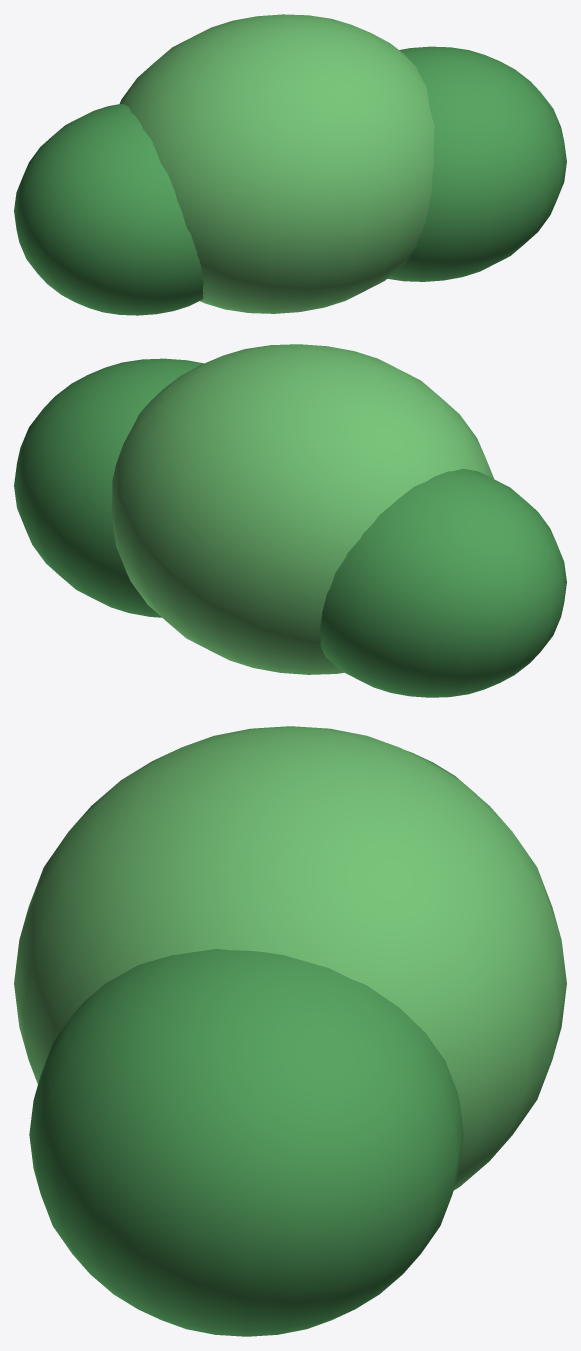
Rendered from stage-bush.glb.
The picture shows the model from 3 angles, top to bottom: view 1: azimuth 30°, elevation 25°; view 2: azimuth 150°, elevation 25°; view 3: azimuth 270°, elevation 25°; orthographic projection. The views are drawn at different scales.
Parts seen in each view (by area): view 1: B1, B3, B2; view 2: B1, B3, B2; view 3: B2, B1.
Boxes of the visible parts, x1,y1,x2,y2 form: B1: (119, 14, 434, 313); B3: (14, 104, 203, 315); B2: (387, 46, 566, 281); B1: (111, 344, 493, 674); B3: (319, 468, 566, 697); B2: (14, 358, 203, 617); B2: (29, 949, 463, 1336); B1: (14, 726, 566, 1190).
Size of the model in its own units: 0.22 by 0.112 by 0.126.
